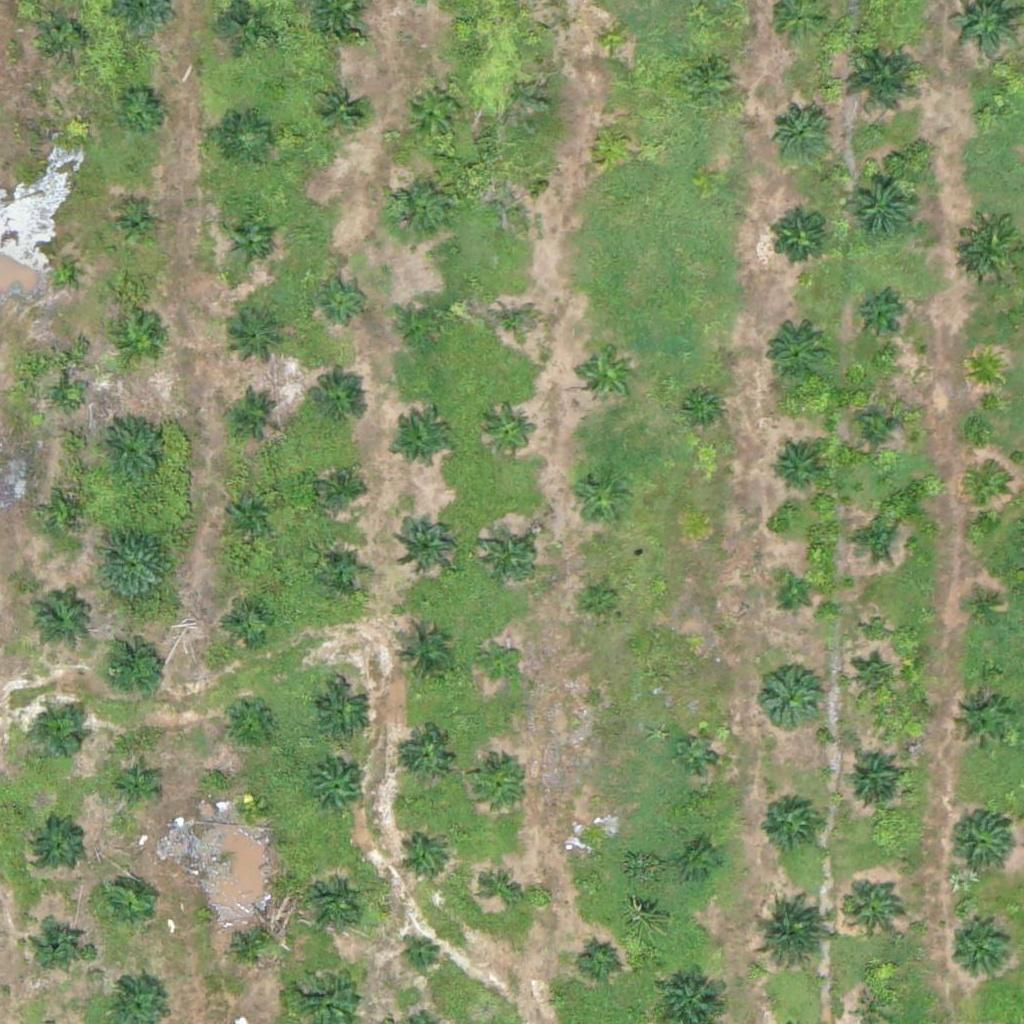Kelapa_Sawit: (840, 36, 927, 124), (93, 412, 168, 488), (97, 630, 172, 706), (97, 526, 172, 602), (751, 899, 826, 974), (843, 167, 918, 242), (757, 663, 820, 726), (26, 585, 89, 648), (568, 467, 631, 530), (311, 681, 374, 744), (769, 102, 832, 165), (960, 219, 1023, 282), (227, 305, 290, 368), (385, 176, 448, 239), (575, 344, 638, 407), (306, 374, 369, 437), (390, 412, 452, 475), (758, 790, 820, 853), (303, 873, 365, 936), (391, 625, 453, 688), (478, 526, 540, 589), (394, 509, 456, 572), (763, 322, 825, 385), (767, 205, 829, 268), (841, 747, 903, 810), (951, 691, 1013, 754), (949, 811, 1011, 874), (953, 922, 1015, 985), (843, 876, 905, 939), (403, 79, 465, 142), (308, 760, 370, 822), (484, 405, 534, 456), (769, 443, 819, 494), (846, 513, 896, 564), (221, 113, 271, 164), (40, 11, 90, 62), (116, 84, 166, 135), (314, 84, 364, 135), (488, 299, 538, 350), (400, 297, 450, 348), (318, 274, 368, 325), (226, 216, 276, 267), (34, 916, 84, 966), (37, 710, 87, 760), (33, 820, 83, 870), (223, 693, 273, 743), (222, 597, 272, 647), (404, 728, 454, 778), (474, 760, 524, 810), (100, 876, 150, 926), (850, 293, 900, 343), (115, 318, 165, 368), (683, 52, 733, 102), (227, 919, 277, 969), (847, 656, 897, 706), (851, 407, 901, 457), (316, 463, 366, 513), (318, 547, 368, 597), (224, 483, 274, 533), (229, 388, 279, 438), (111, 201, 161, 251), (399, 832, 449, 882), (115, 766, 153, 804), (402, 934, 440, 972), (966, 350, 1004, 388), (968, 472, 1006, 510), (967, 592, 1005, 630), (596, 22, 634, 60), (592, 122, 630, 160), (683, 393, 721, 431), (479, 645, 517, 683), (577, 828, 615, 866), (483, 870, 521, 908), (682, 844, 719, 882), (582, 942, 620, 979), (774, 576, 811, 614), (499, 174, 536, 212), (582, 582, 619, 619), (677, 732, 714, 769), (55, 503, 80, 529), (976, 102, 1001, 127), (48, 258, 73, 283), (53, 386, 78, 411), (236, 794, 261, 819)
